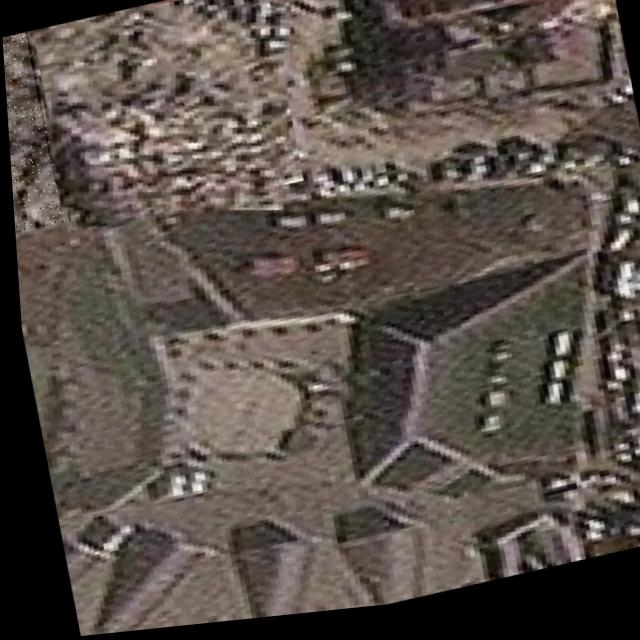Rubble: (20, 0, 313, 249), (2, 30, 59, 235)
